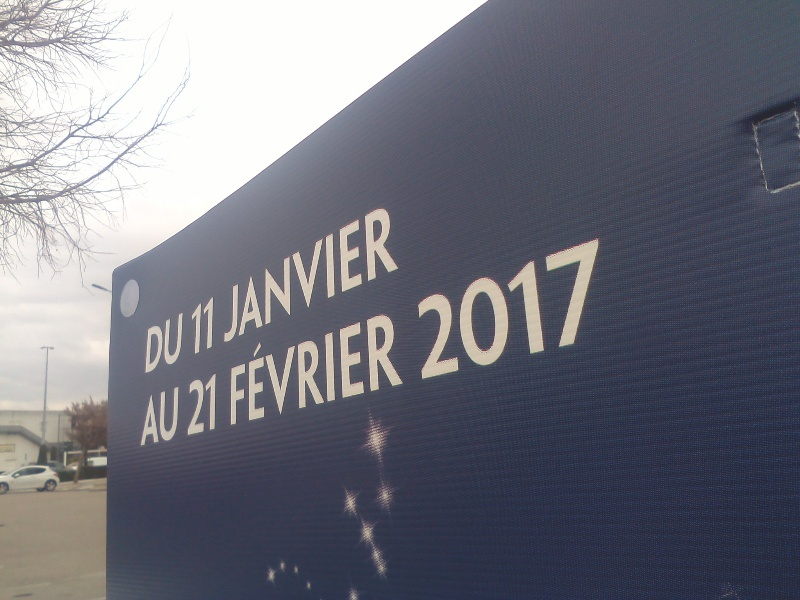text: (417, 234, 432, 381), (433, 234, 448, 381), (449, 234, 464, 381), (465, 234, 480, 381), (481, 234, 496, 381), (497, 234, 512, 381), (513, 234, 528, 381), (529, 234, 544, 381), (545, 234, 560, 381), (561, 234, 576, 381), (577, 234, 592, 381), (241, 204, 256, 346), (257, 204, 272, 346), (273, 204, 288, 346), (289, 204, 304, 346), (305, 204, 320, 346), (321, 204, 336, 346), (337, 204, 352, 346), (353, 204, 368, 346), (369, 204, 384, 346), (385, 204, 400, 346), (241, 304, 256, 427), (257, 304, 272, 427), (273, 304, 288, 427), (289, 304, 304, 427), (305, 304, 320, 427), (321, 304, 336, 427), (337, 304, 352, 427), (353, 304, 368, 427), (369, 304, 384, 427), (385, 304, 400, 427), (229, 204, 240, 346), (593, 234, 603, 381), (231, 304, 240, 427), (193, 370, 208, 437), (193, 292, 208, 358), (145, 384, 160, 449), (161, 384, 176, 449), (161, 311, 176, 375), (148, 311, 160, 375), (209, 370, 218, 437), (177, 311, 185, 375), (209, 292, 216, 358), (177, 384, 181, 449), (189, 370, 192, 437), (401, 304, 402, 427), (143, 384, 144, 449), (6, 449, 16, 453)
